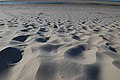human_foot_print: (7, 46, 24, 69), (14, 32, 30, 43), (104, 44, 118, 54), (38, 32, 49, 44), (74, 34, 81, 41)
